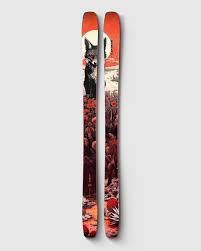skis: (78, 10, 126, 238)
